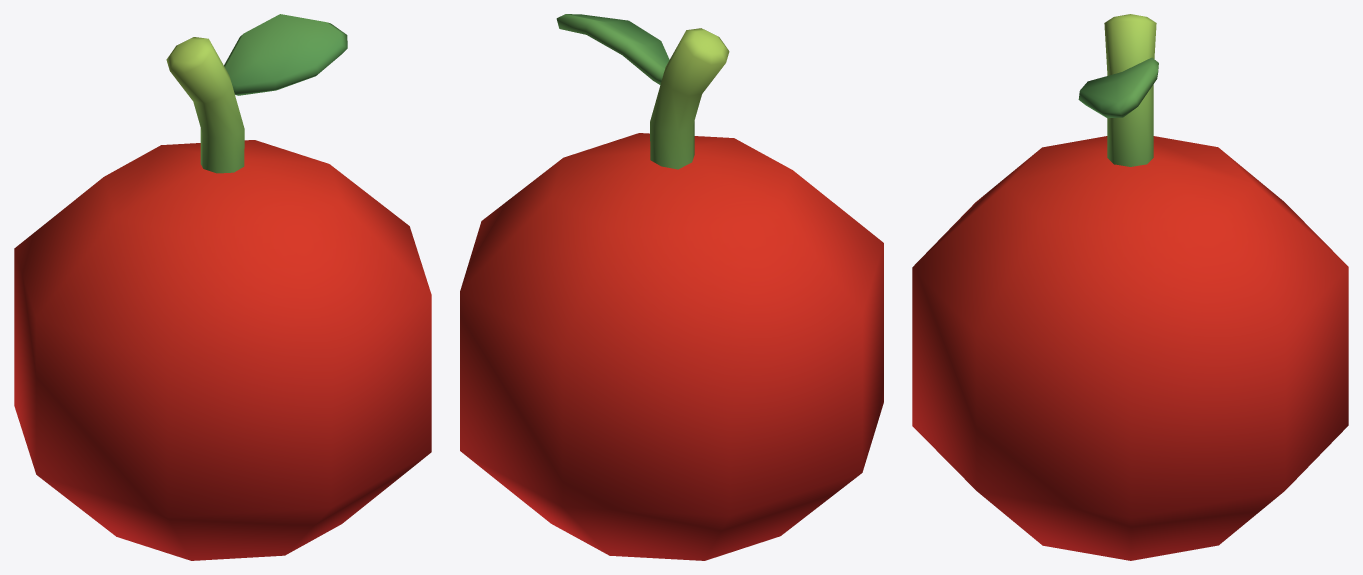
Rendered from fruit.fbx.
The picture shows the model from 3 angles, left to right: view 1: azimuth 30°, elevation 25°; view 2: azimuth 150°, elevation 25°; view 3: azimuth 270°, elevation 25°; orthographic projection.
Parts seen in each view (by area): view 1: fruit; view 2: fruit; view 3: fruit.
Part boxes in pixels (x1,y1,x2,y2): fruit: [14, 14, 431, 560]; fruit: [460, 14, 883, 560]; fruit: [912, 14, 1348, 560].
Size of the model in its own units: 57.32 by 74.38 by 57.32.
Materials: 1 (1 with a texture image).
